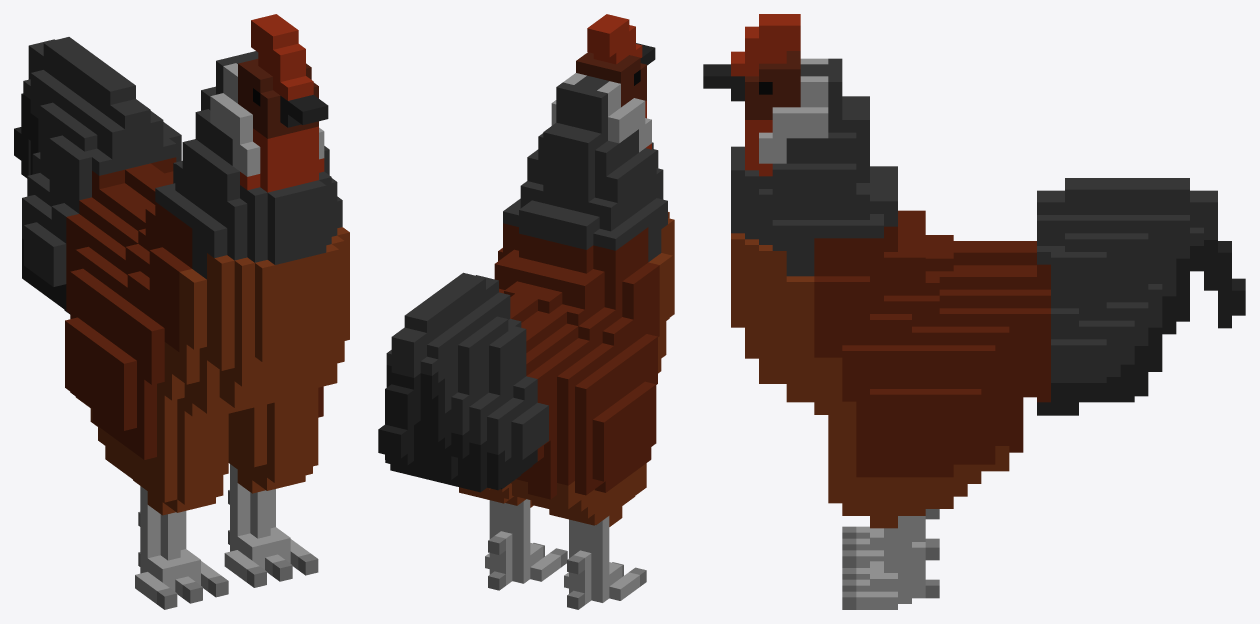
File: rooster.fbx
The picture shows the model from 3 angles, left to right: view 1: azimuth 30°, elevation 25°; view 2: azimuth 150°, elevation 25°; view 3: azimuth 270°, elevation 25°; orthographic projection. The views are drawn at different scales.
Visible parts, largest first — view 1: rooster; view 2: rooster; view 3: rooster.
Part boxes in pixels (x1,y1,x2,y2): rooster: (14,14,349,609); rooster: (378,14,674,609); rooster: (703,14,1245,609).
Bounding box in the file's own units: 16 × 44 × 39.
